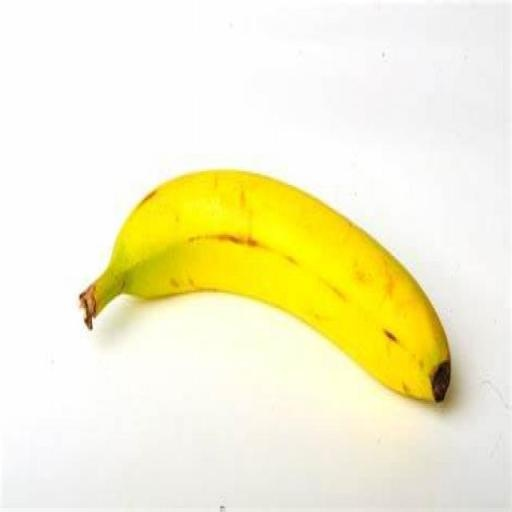fruit: (80, 171, 449, 401)
